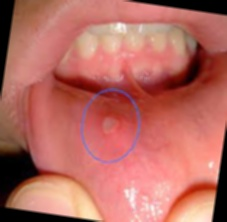Ulcer: (97, 111, 123, 140)
